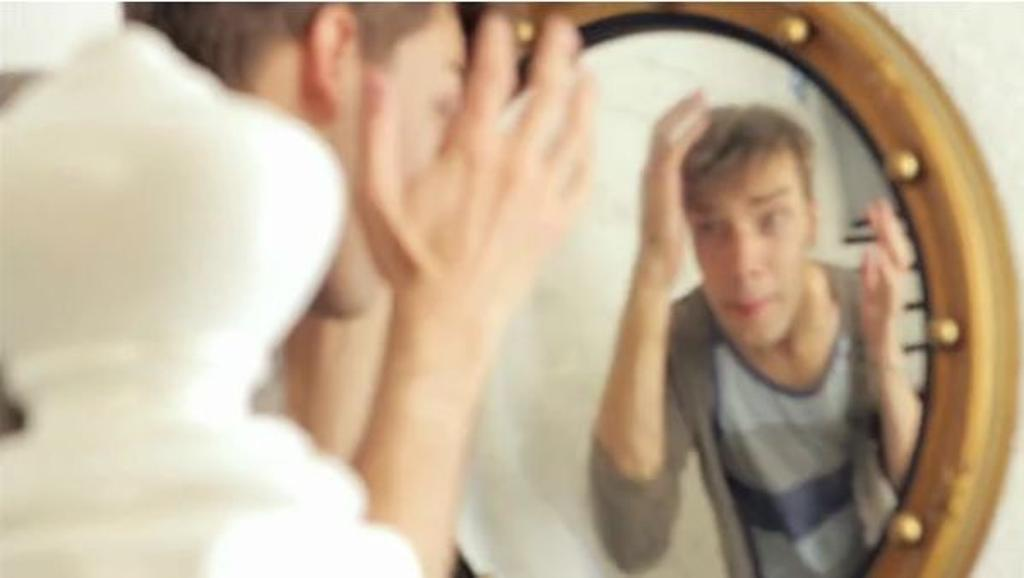face: (691, 169, 815, 349)
